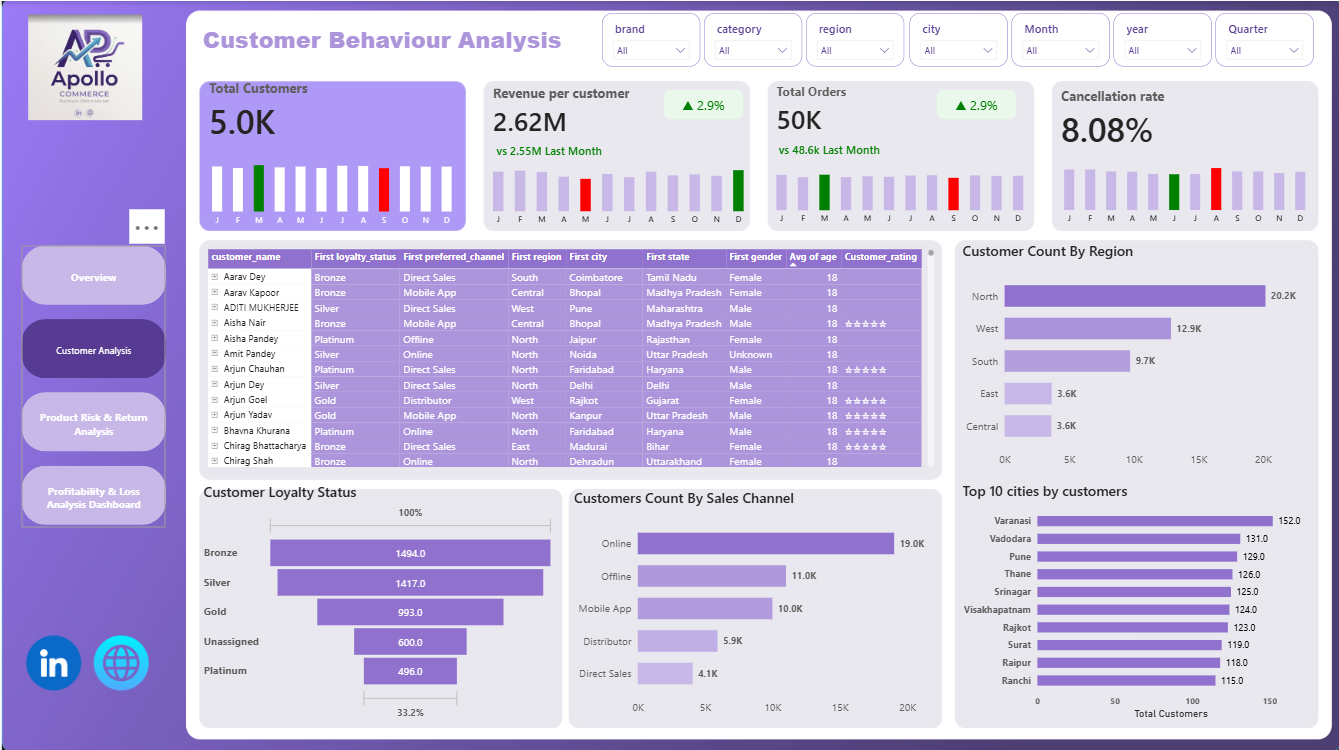

What the dashboard file says about the page in this screenshot:
{"tool":"powerbi","page":{"name":"Customer Analysis","canvas":[1980,1080],"ordinal":1},"visuals":[{"type":"cardVisual","fields":{"Data":["Measures_table.Total Customers"]},"box":[314.3,112.1,377.7,92.6],"z":0},{"type":"cardVisual","fields":{"Data":["Measures_table.Cancellation rate"]},"box":[1535,121.8,377.7,92.6],"z":0,"group":"g3"},{"type":"shape","box":[1368.9,126.3,114.5,42.9],"z":0,"group":"g1"},{"type":"shape","box":[978.2,126.5,114.5,42.9],"z":0,"group":"g2"},{"type":"columnChart","fields":{"Category":["Calender_table.Month"],"Y":["Measures_table.Cancellation rate"]},"box":[1535.1,217.3,380.1,112.1],"z":1000,"group":"g3"},{"type":"barChart","title":"Top 10 cities by customers","fields":{"Category":["customers.city"],"Y":["Measures_table.Total Customers"]},"box":[1401,688.5,511,345.5],"z":1000},{"type":"clusteredColumnChart","fields":{"Category":["Calender_table.Month"],"Y":["Measures_table.Total_orders"]},"box":[1120.8,214.6,388.9,114.5],"z":2000,"group":"g1"},{"type":"funnel","title":"Customer Loyalty Status","fields":{"Category":["customers.loyalty_status"],"Y":["Measures_table.Total Customers"]},"box":[314.3,689.5,511.7,343.5],"z":2000},{"type":"barChart","title":"Customers Count By Sales Channel","fields":{"Category":["orders.sales_channel"],"Y":["CountNonNull(orders.customer_id)"]},"box":[845.4,699.3,528.7,333.8],"z":3000},{"type":"cardVisual","fields":{"Data":["Measures_table.Total_orders"]},"box":[1120.8,109.6,381.7,162.2],"z":4000,"group":"g1"},{"type":"columnChart","fields":{"Category":["Calender_table.Month"],"Y":["Measures_table.Total Customers"]},"box":[314.3,219.3,377.7,112.1],"z":4000},{"type":"group","id":"g1","title":"Group 3","box":[1120.8,109.6,389.8,219.3],"z":5000},{"type":"cardVisual","fields":{"Data":["Measures_table.Customer lifetime value"]},"box":[716.3,112.1,377.7,160.8],"z":5000,"group":"g2"},{"type":"group","id":"g2","title":"Group 1","box":[716.3,112.1,394.7,219.3],"z":6000},{"type":"columnChart","fields":{"Category":["Calender_table.Month"],"Y":["Measures_table.Customer lifetime value"]},"box":[716.3,204.7,394.7,126.7],"z":6000,"group":"g2"},{"type":"group","id":"g3","title":"Group 2","box":[1535,121.8,380.2,207.5],"z":7000},{"type":"pivotTable","fields":{"Rows":["customers.customer_name","customers.customer_segment"],"Values":["Min(customers.loyalty_status)","Min(customers.preferred_channel)","Min(customers.region)","Min(customers.city)","Min(customers.state)","Min(customers.gender)","Avg(customers.age)","Measures_table.Sum of customer_rating star rating 2"]},"box":[319.2,350.8,1050.1,321.6],"z":8000},{"type":"barChart","title":"Customer Count By Region","fields":{"Category":["customers.region"],"Y":["CountNonNull(orders.customer_id)"]},"box":[1401,343.5,511.7,333.8],"z":9000},{"type":"shape","box":[302.1,19.5,543.3,70.7],"z":10000},{"type":"pageNavigator","box":[57.3,350.7,207.6,403.2],"z":13001},{"type":"slicer","fields":{"Values":["Calender_table.Date.Variation.Date Hierarchy.Month"]},"box":[1475.3,16.5,140.8,76.3],"z":13002},{"type":"slicer","fields":{"Values":["Calender_table.year"]},"box":[1621.6,16.5,140.8,76.3],"z":13003},{"type":"slicer","fields":{"Values":["Calender_table.Date.Variation.Date Hierarchy.Quarter"]},"box":[1768,16.5,140.8,76.3],"z":13004},{"type":"slicer","fields":{"Values":["customers.city"]},"box":[1328.9,16.5,140.8,76.3],"z":13005},{"type":"slicer","fields":{"Values":["customers.region"]},"box":[1182.6,16.5,140.8,76.3],"z":13006},{"type":"slicer","fields":{"Values":["products.category"]},"box":[1036.3,16.5,140.8,76.3],"z":13007},{"type":"slicer","fields":{"Values":["products.brand"]},"box":[889.9,16.5,140.8,76.3],"z":13008},{"type":"image","box":[50.9,907.8,105,78.7],"z":13009},{"type":"image","box":[148.7,907.8,105,78.7],"z":13010},{"type":"image","box":[31.7,19.5,233.9,151.1],"z":13011}]}

Visuals, with their boxes on the page's 1980x1080 design canvas (x1, y1, x2, y2). These are canvas units, not pixel positions in the 1339x750 screenshot, which may show the page scaled, cropped or inside an application window:
cardVisual - Measures_table.Total Customers: pyautogui.locateOnScreen(314, 112, 692, 205)
cardVisual - Measures_table.Cancellation rate: pyautogui.locateOnScreen(1535, 122, 1913, 214)
shape: pyautogui.locateOnScreen(1369, 126, 1483, 169)
shape: pyautogui.locateOnScreen(978, 126, 1093, 169)
columnChart - Calender_table.Month x Measures_table.Cancellation rate: pyautogui.locateOnScreen(1535, 217, 1915, 329)
"Top 10 cities by customers" barChart: pyautogui.locateOnScreen(1401, 688, 1912, 1034)
clusteredColumnChart - Calender_table.Month x Measures_table.Total_orders: pyautogui.locateOnScreen(1121, 215, 1510, 329)
"Customer Loyalty Status" funnel: pyautogui.locateOnScreen(314, 690, 826, 1033)
"Customers Count By Sales Channel" barChart: pyautogui.locateOnScreen(845, 699, 1374, 1033)
cardVisual - Measures_table.Total_orders: pyautogui.locateOnScreen(1121, 110, 1502, 272)
columnChart - Calender_table.Month x Measures_table.Total Customers: pyautogui.locateOnScreen(314, 219, 692, 331)
"Group 3" group: pyautogui.locateOnScreen(1121, 110, 1511, 329)
cardVisual - Measures_table.Customer lifetime value: pyautogui.locateOnScreen(716, 112, 1094, 273)
"Group 1" group: pyautogui.locateOnScreen(716, 112, 1111, 331)
columnChart - Calender_table.Month x Measures_table.Customer lifetime value: pyautogui.locateOnScreen(716, 205, 1111, 331)
"Group 2" group: pyautogui.locateOnScreen(1535, 122, 1915, 329)
pivotTable - customers.customer_name x customers.customer_segment: pyautogui.locateOnScreen(319, 351, 1369, 672)
"Customer Count By Region" barChart: pyautogui.locateOnScreen(1401, 344, 1913, 677)
shape: pyautogui.locateOnScreen(302, 20, 845, 90)
pageNavigator: pyautogui.locateOnScreen(57, 351, 265, 754)
slicer - Calender_table.Date.Variation.Date Hierarchy.Month: pyautogui.locateOnScreen(1475, 16, 1616, 93)
slicer - Calender_table.year: pyautogui.locateOnScreen(1622, 16, 1762, 93)
slicer - Calender_table.Date.Variation.Date Hierarchy.Quarter: pyautogui.locateOnScreen(1768, 16, 1909, 93)
slicer - customers.city: pyautogui.locateOnScreen(1329, 16, 1470, 93)
slicer - customers.region: pyautogui.locateOnScreen(1183, 16, 1323, 93)
slicer - products.category: pyautogui.locateOnScreen(1036, 16, 1177, 93)
slicer - products.brand: pyautogui.locateOnScreen(890, 16, 1031, 93)
image: pyautogui.locateOnScreen(51, 908, 156, 986)
image: pyautogui.locateOnScreen(149, 908, 254, 986)
image: pyautogui.locateOnScreen(32, 20, 266, 171)
